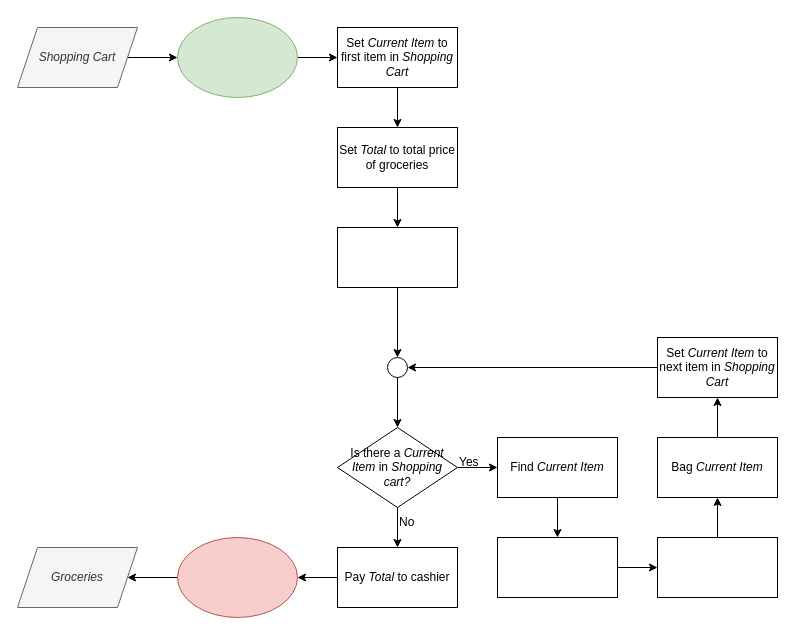
The diagram is 795 pixels wide and 635 high, and some of its shapes have lost their labels. The centre of each missing label's shape, as x and y in pixels:
"Add Grocery Cost value to Total" goes at (x=717, y=567).
"Find Grocery Cost for Current Item" goes at (x=557, y=567).
"Set Grocery Cost to cost of grocery" goes at (x=397, y=257).
"Start" goes at (x=237, y=57).
"Stop" goes at (x=237, y=577).
